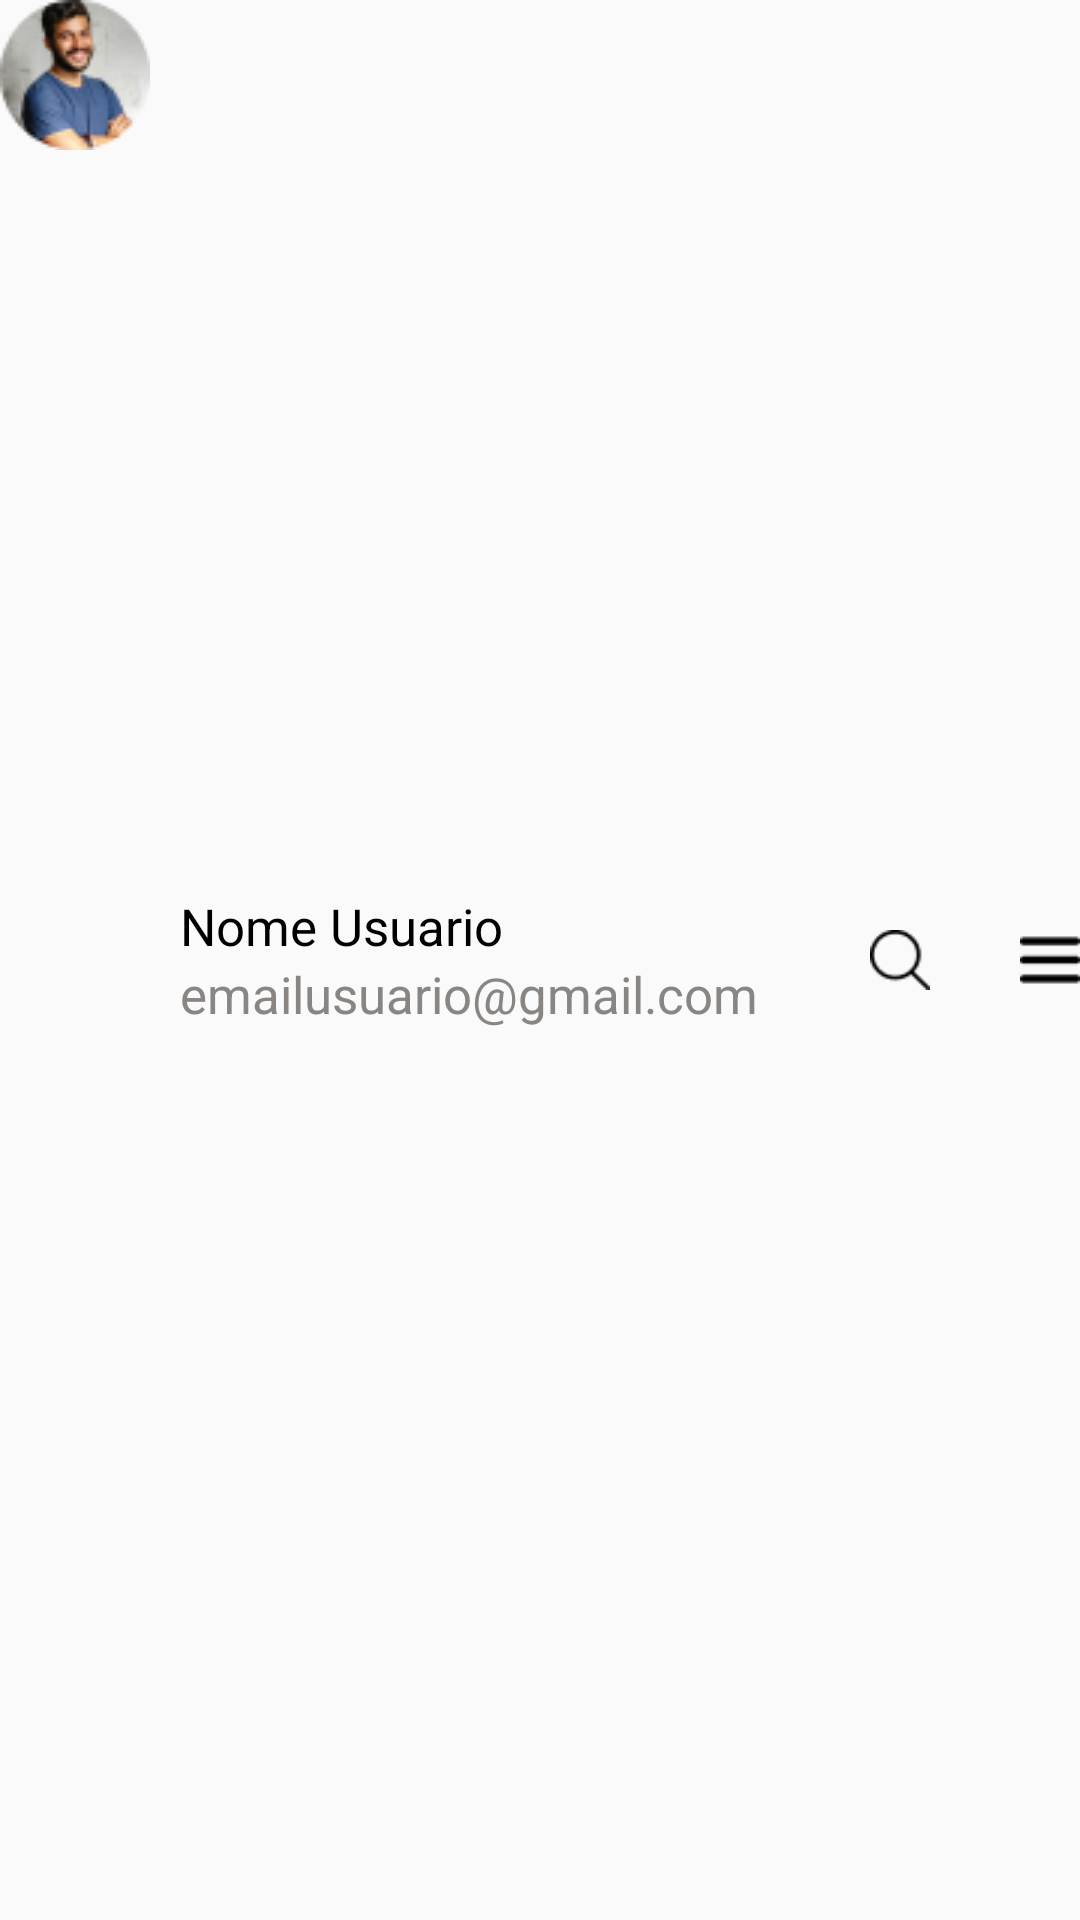

Icon click points for this 1080*1920 phone screenshot, format [x,y]:
menuhamb: [1050,960]
pesquisar: [900,960]
pessoa: [75,75]
